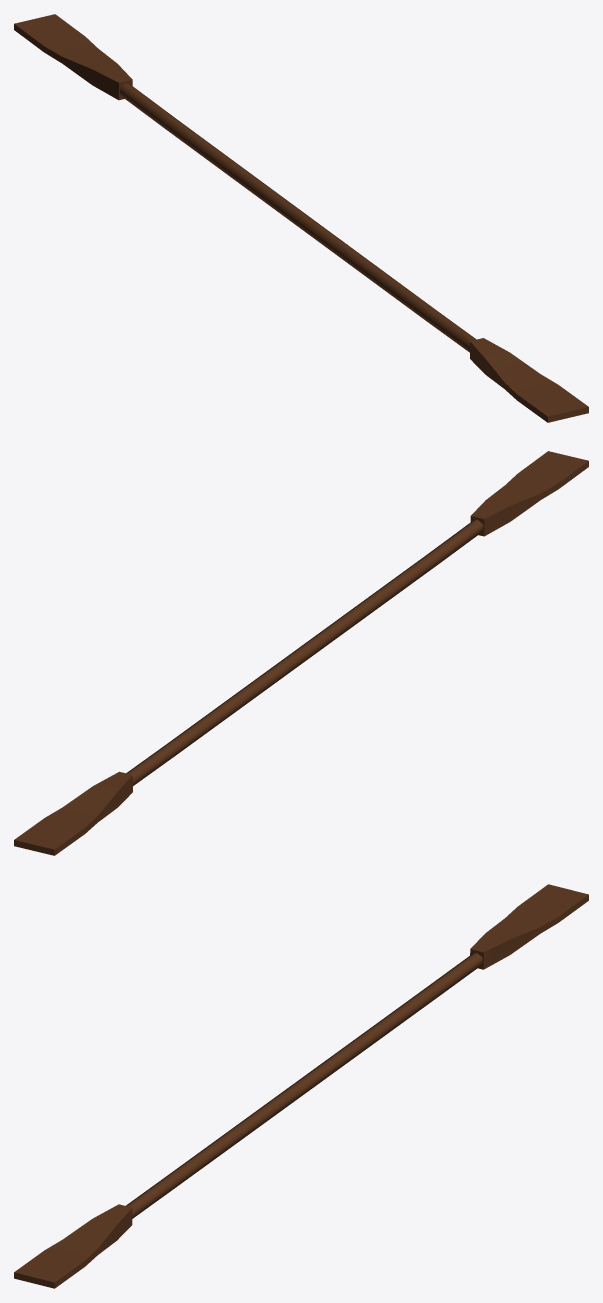
File: NoV2.fbx
The picture shows the model from 3 angles, top to bottom: view 1: azimuth 30°, elevation 25°; view 2: azimuth 150°, elevation 25°; view 3: azimuth 330°, elevation 25°; orthographic projection.
Visible parts, largest first — view 1: Oar_Left_Hand_Mesh.001; view 2: Oar_Left_Hand_Mesh.001; view 3: Oar_Left_Hand_Mesh.001.
Boxes of the visible parts, bbox=[...] form: Oar_Left_Hand_Mesh.001: bbox=[14, 14, 588, 422]; Oar_Left_Hand_Mesh.001: bbox=[14, 451, 588, 855]; Oar_Left_Hand_Mesh.001: bbox=[14, 884, 588, 1288].
Bounding box in the file's own units: 16.91 × 6.61 × 359.
